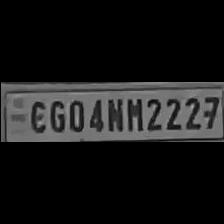0: (65, 96, 84, 132)
2: (162, 95, 182, 131), (144, 96, 162, 132), (182, 94, 200, 130)
4: (84, 96, 104, 132)
7: (200, 93, 218, 129)
C: (26, 98, 46, 134)
G: (47, 98, 65, 134)
M: (124, 96, 142, 132)
N: (103, 96, 123, 132)
